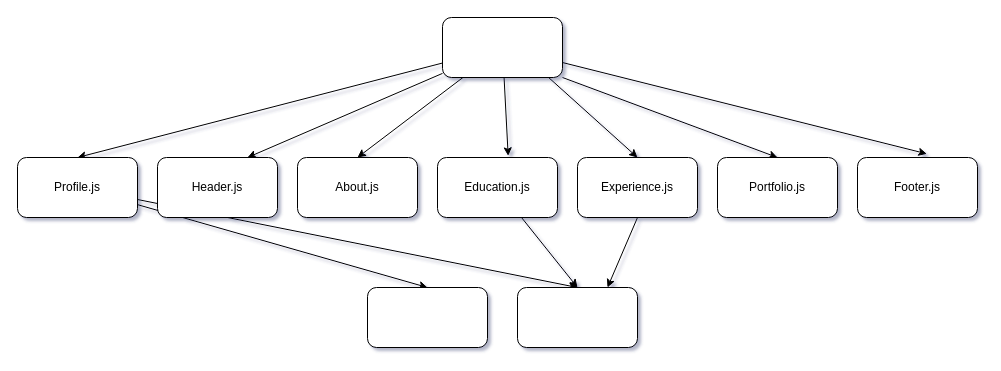
This 1001x371 diagram has some shape labels left out. The box of each missing label's shape, as (x1, y1, x2, y2) in pixels:
App.js: (442, 16, 562, 78)
BasicTimeline.js: (516, 286, 638, 348)
Button.js: (366, 286, 488, 348)
